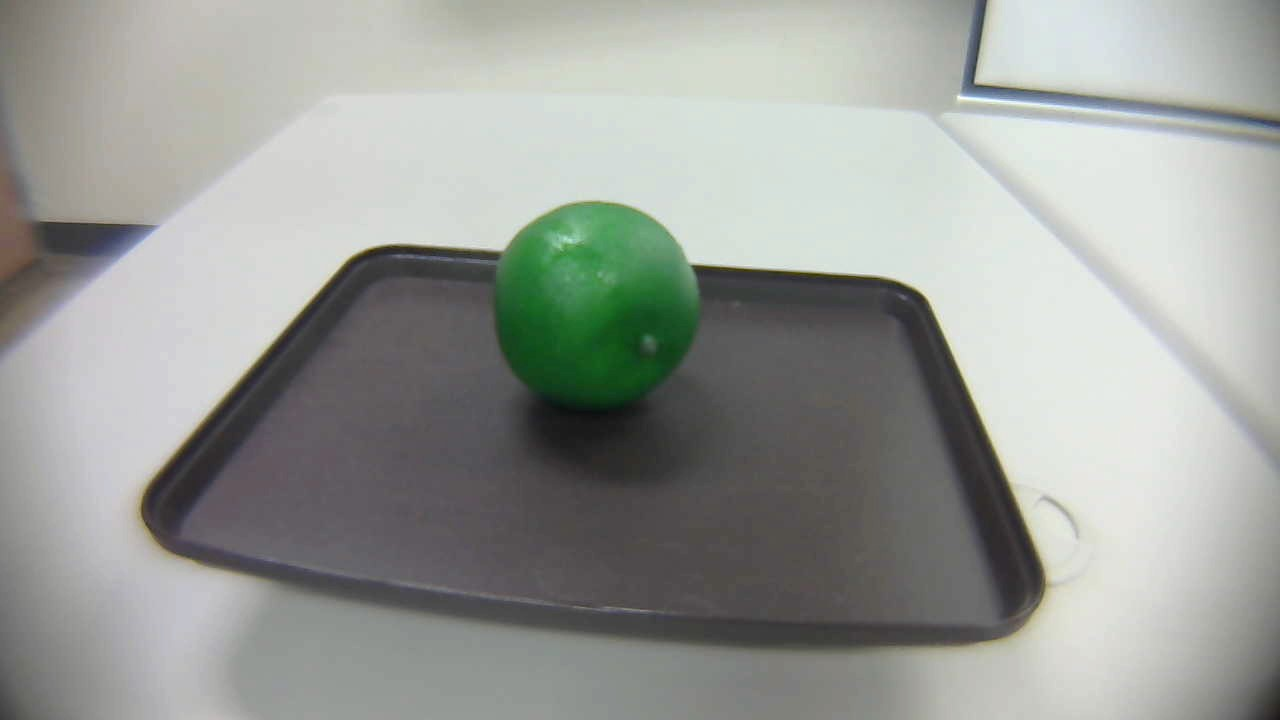green orange: (488, 193, 707, 419)
